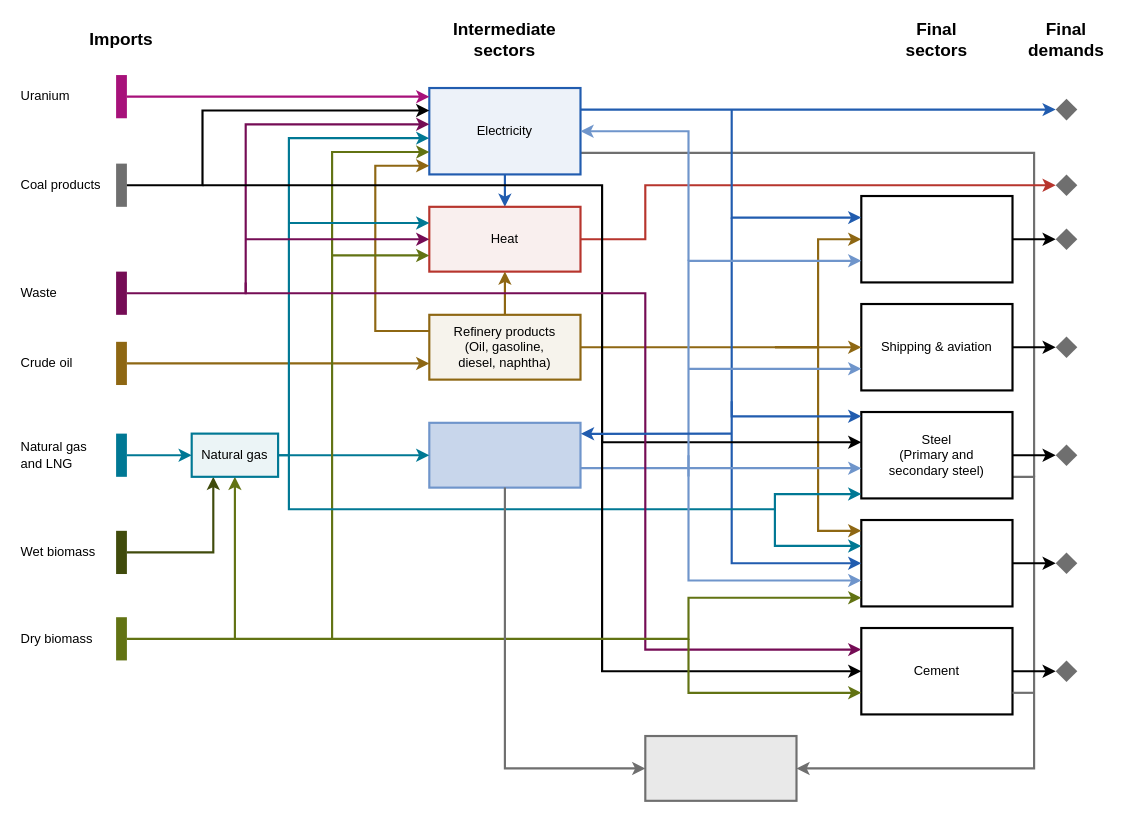
Some shapes in this 1138 by 820 pixel diagram are drawn without their labels. Each missing label, with the centre of its shape:
Carbon: [720,767]
Chemicals (Ammonia, methanol, olefins): [936,562]
Hydrogen: [504,454]
Road transport (Passenger and truck transport): [936,238]
